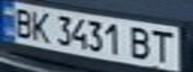1: (103, 20, 127, 56)
3: (84, 18, 106, 53), (51, 12, 72, 47)
4: (66, 16, 87, 51)
B: (127, 24, 157, 61), (6, 6, 36, 39)
K: (27, 8, 54, 43)
T: (148, 27, 181, 63)
